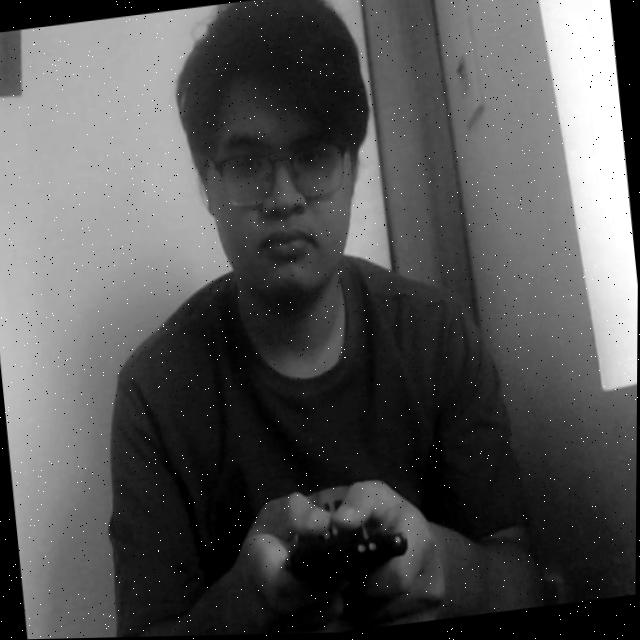phone: (267, 493, 419, 598)
